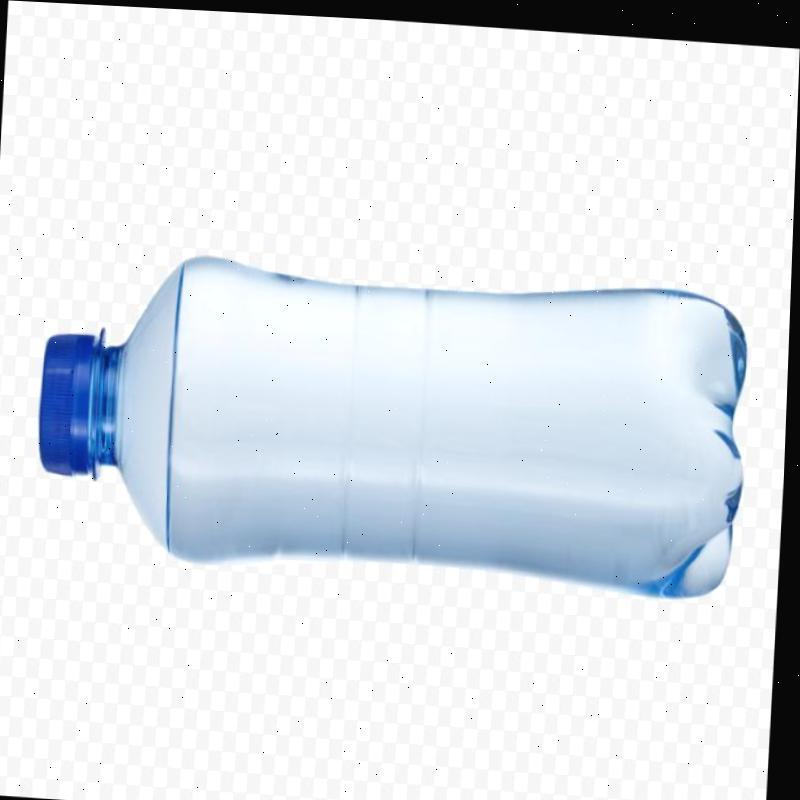botella: (32, 242, 752, 598)
